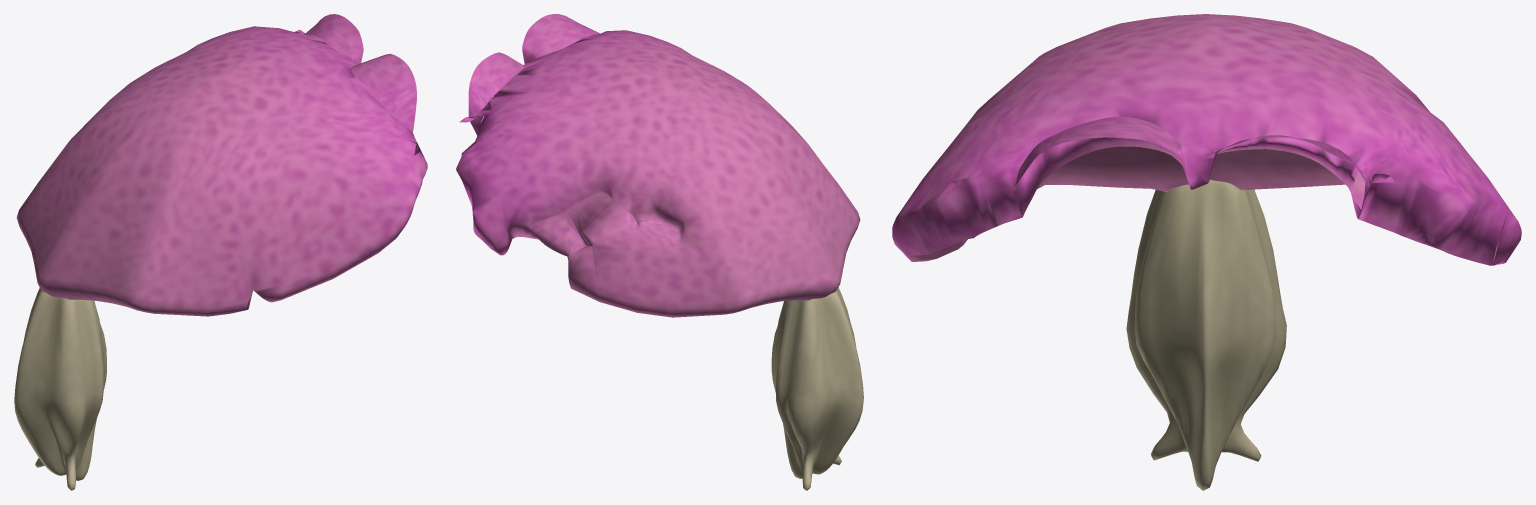
Rendered from tripo_f2eeb0ee_pink_mascot_rear_REJECTED.glb.
The picture shows the model from 3 angles, left to right: view 1: azimuth 30°, elevation 25°; view 2: azimuth 150°, elevation 25°; view 3: azimuth 270°, elevation 25°; orthographic projection. The views are drawn at different scales.
Parts seen in each view (by area): view 1: tripo_node_f2eeb0ee-a223-4e1f-9393-b8ba022dd758; view 2: tripo_node_f2eeb0ee-a223-4e1f-9393-b8ba022dd758; view 3: tripo_node_f2eeb0ee-a223-4e1f-9393-b8ba022dd758.
Part boxes in pixels (box(x1,y1,x2,y2)): tripo_node_f2eeb0ee-a223-4e1f-9393-b8ba022dd758: box(14, 14, 427, 490); tripo_node_f2eeb0ee-a223-4e1f-9393-b8ba022dd758: box(456, 14, 863, 490); tripo_node_f2eeb0ee-a223-4e1f-9393-b8ba022dd758: box(892, 14, 1521, 490).
Bounding box in the file's own units: 0.9976 × 0.9995 × 0.9868.
1 material, 1 textured.
